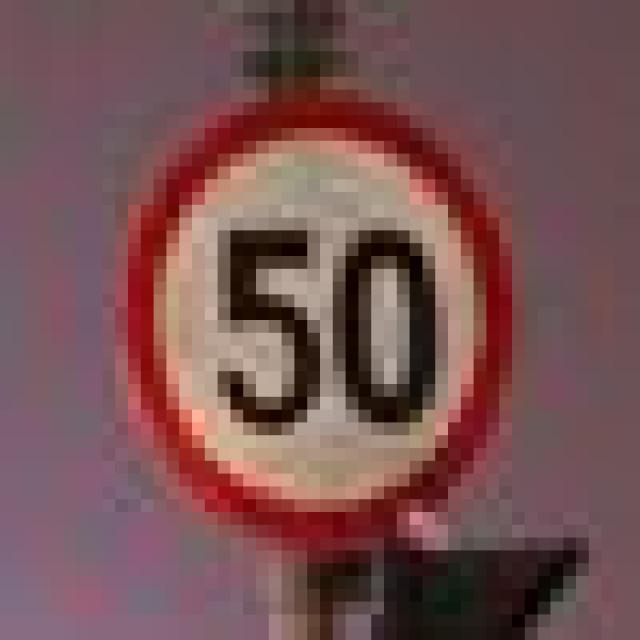SPEED_LIMIT_50: (102, 76, 500, 538)
